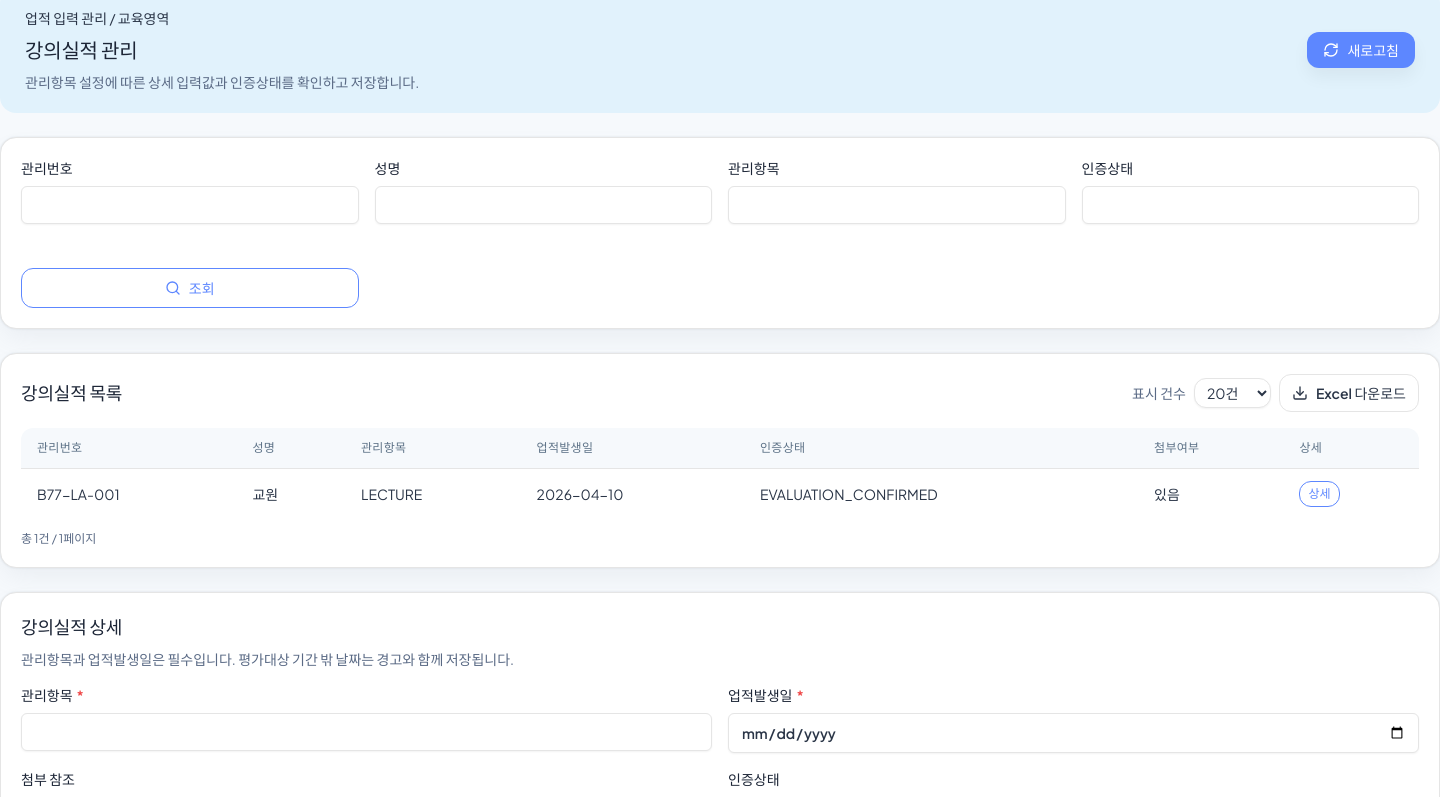
Test: SCR-LECTURE-ACHIEVEMENT-MGMT › prevents a selected confirmed row from being saved or changing its attachment
expect the text "B77-LA-001" is shown: met, box 21,468 -> 236,519
Step 1. Click the button with test id "lecture-achievement-detail-button" → (1320, 494), box 1300,481 -> 1340,507
(page scrolled)
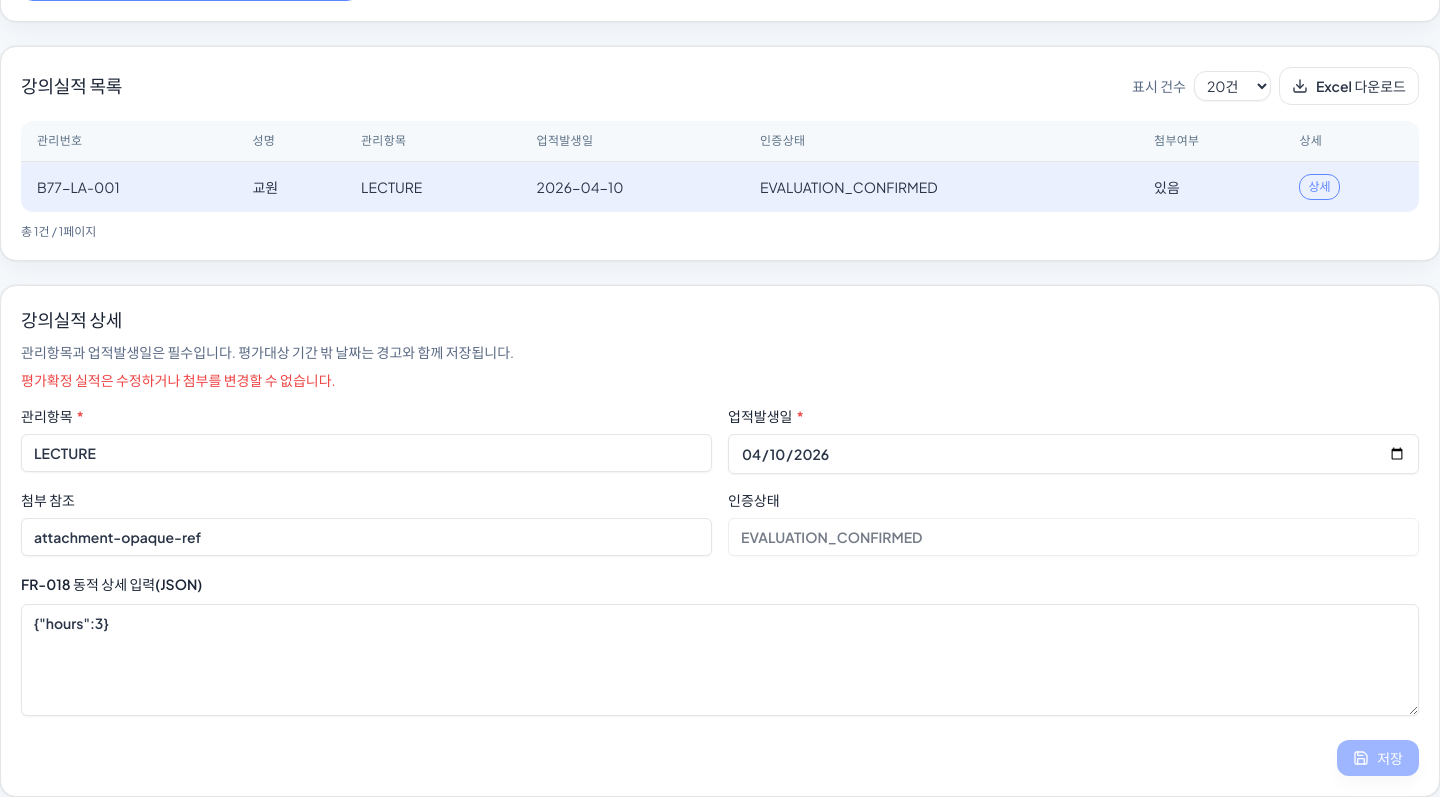
expect the text "평가확정 실적은 수정하거나 첨부를 변경할 수 없습니다." is shown: met, box 21,371 -> 336,389
expect the button with test id "lecture-achievement-save-button" is disabled: met, box 1337,740 -> 1419,776
